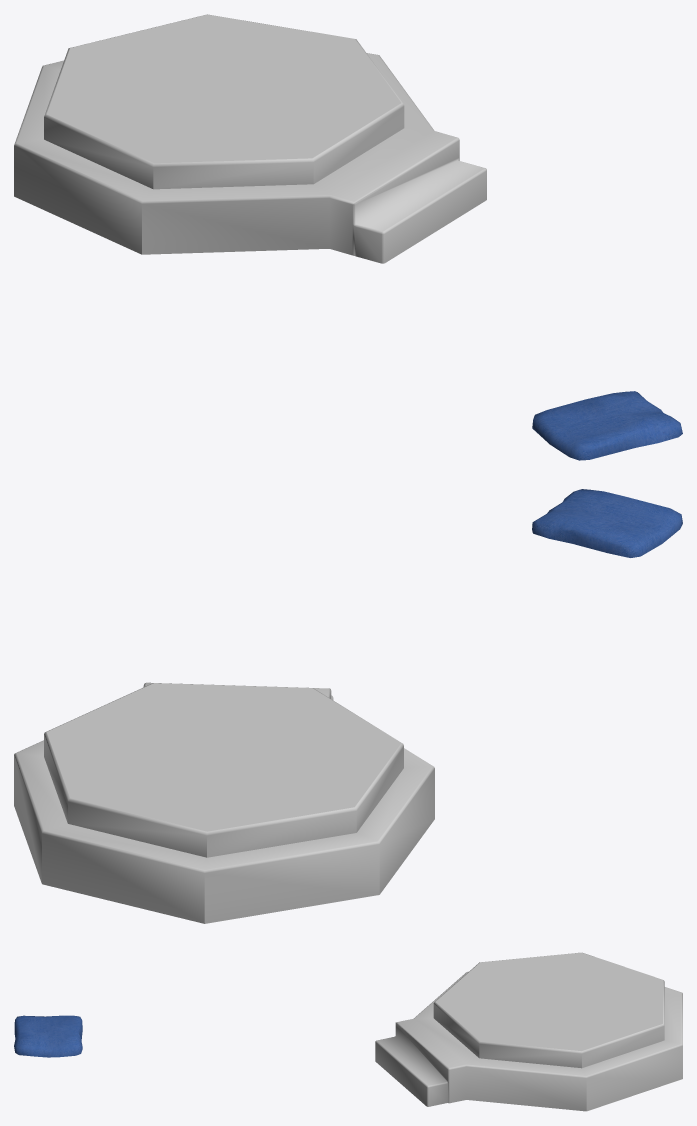
The model's file is sword3NewBase.fbx.
The picture shows the model from 3 angles, top to bottom: view 1: azimuth 30°, elevation 25°; view 2: azimuth 150°, elevation 25°; view 3: azimuth 270°, elevation 25°; orthographic projection. The views are drawn at different scales.
Visible parts, largest first — view 1: Cylinder, Cylinder.001, pillow.001; view 2: Cylinder, Cylinder.001, pillow.001; view 3: Cylinder, Cylinder.001, pillow.001.
Part boxes in pixels (x1,y1,x2,y2): Cylinder: (14, 14, 486, 263); Cylinder.001: (47, 14, 401, 163); pillow.001: (532, 391, 682, 460); Cylinder: (14, 682, 434, 923); Cylinder.001: (46, 683, 400, 831); pillow.001: (532, 489, 682, 557); Cylinder: (375, 952, 682, 1111); Cylinder.001: (435, 952, 662, 1050); pillow.001: (14, 1015, 82, 1057).
Bounding box in the file's own units: 195 × 39.7 × 471.
